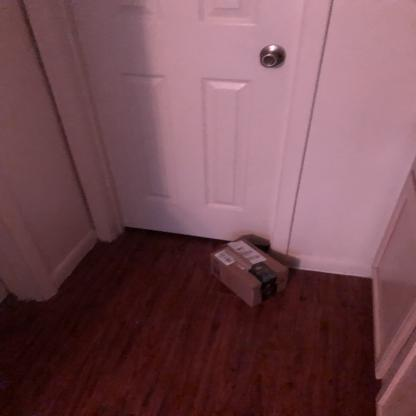package: (209, 238, 291, 307)
